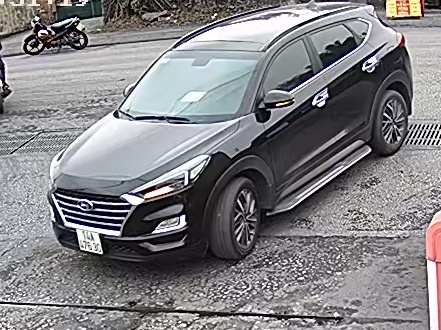vehicle plate: (69, 225, 106, 257)
